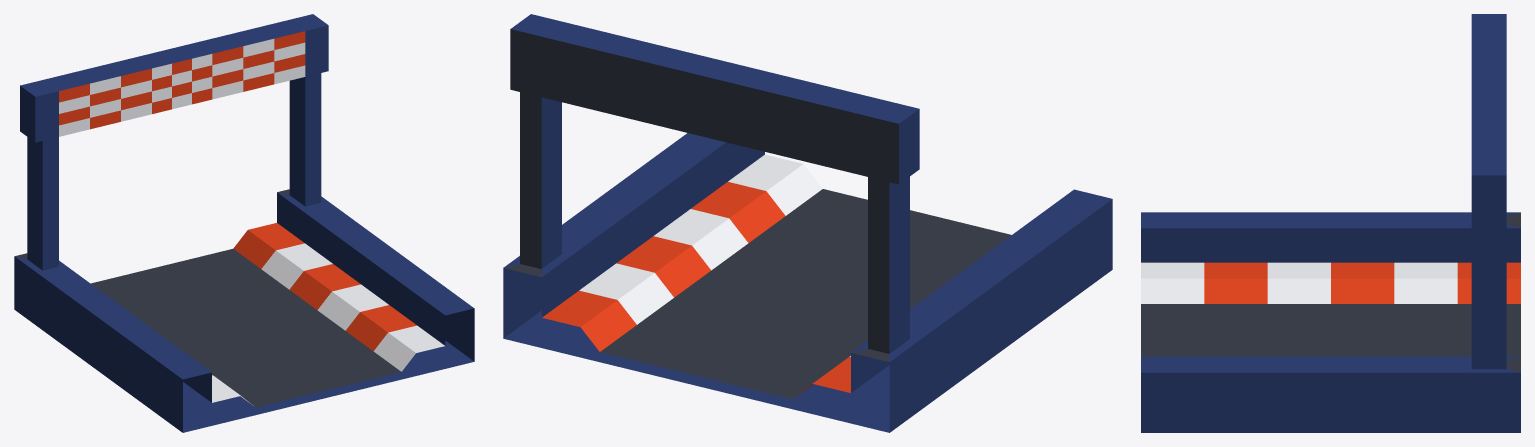
Rendered from Start.fbx.
3 views of the same model, side by side, from view 1: azimuth 30°, elevation 25°; view 2: azimuth 150°, elevation 25°; view 3: azimuth 270°, elevation 25° (orthographic). The views are drawn at different scales.
Visible parts, largest first — view 1: start; view 2: start; view 3: start.
Part boxes in pixels (x1,y1,x2,y2): start: [14, 14, 474, 432]; start: [503, 14, 1112, 432]; start: [1141, 14, 1520, 432].
Bounding box in the file's own units: 402 × 300 × 400.
